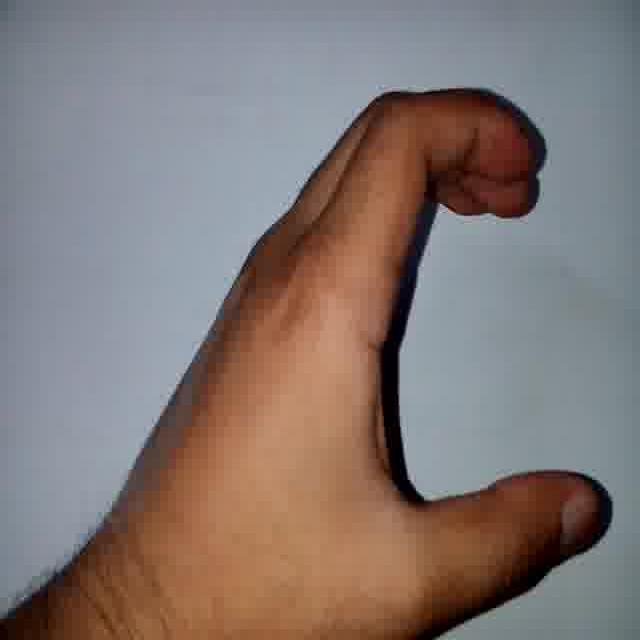Alphabet-C: (105, 85, 613, 589)
